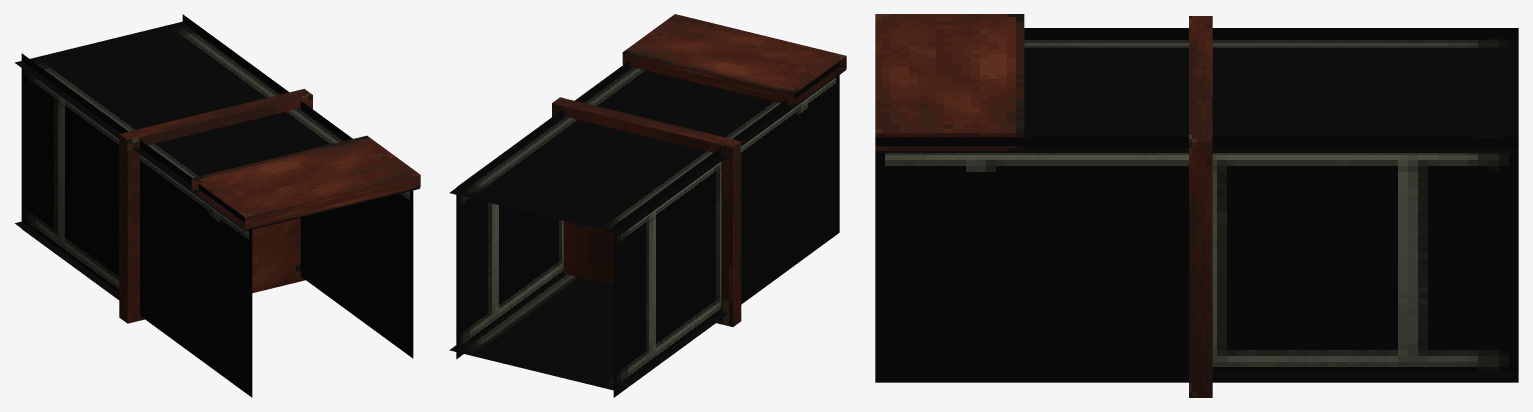
Rendered from prop_chairfallen-4-1.glb.
3 views of the same model, side by side, from view 1: azimuth 30°, elevation 25°; view 2: azimuth 150°, elevation 25°; view 3: azimuth 270°, elevation 25° (orthographic). The views are drawn at different scales.
Parts seen in each view (by area): view 1: prop_chairfallen-4-1; view 2: prop_chairfallen-4-1; view 3: prop_chairfallen-4-1.
Part boxes in pixels (x1,y1,x2,y2): prop_chairfallen-4-1: [15, 14, 420, 397]; prop_chairfallen-4-1: [449, 14, 846, 397]; prop_chairfallen-4-1: [875, 14, 1518, 397].
Bounding box in the file's own units: 0.3876 × 0.3749 × 0.8364.
2 materials, 2 textured.
